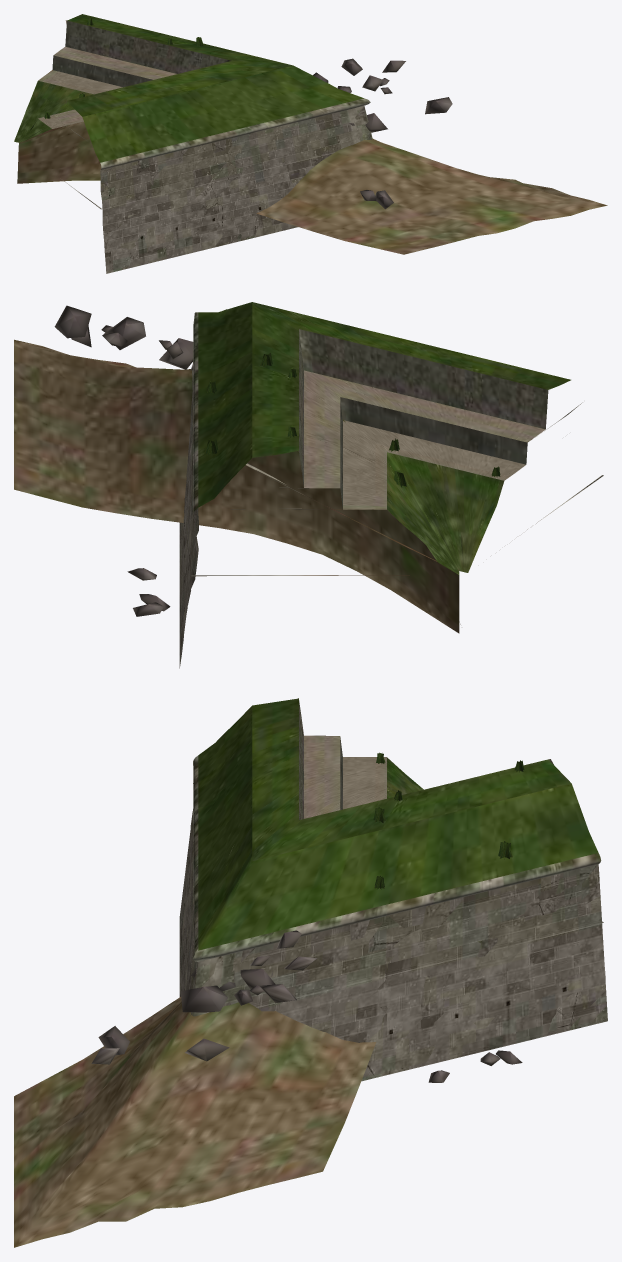
Rendered from starfort_ravelin_salient_hero.glb.
3 renders of one model, top to bottom at view 1: azimuth 30°, elevation 25°; view 2: azimuth 150°, elevation 25°; view 3: azimuth 270°, elevation 25°, orthographic. The views are drawn at different scales.
Parts seen in each view (by area): view 1: breached, intact, cracked; view 2: breached, intact, cracked; view 3: breached, intact, cracked.
Part boxes in pixels (x1,y1,x2,y2): breached: [15, 16, 607, 265]; intact: [14, 14, 372, 268]; cracked: [18, 15, 371, 273]; breached: [14, 305, 569, 663]; intact: [179, 302, 570, 662]; cracked: [127, 308, 556, 667]; breached: [14, 704, 605, 1247]; intact: [179, 698, 607, 1042]; cracked: [179, 699, 607, 1082].
Size of what is drawn, in the model's own units: 15.13 by 4.89 by 11.47.
Materials: 2 (2 with a texture image).
